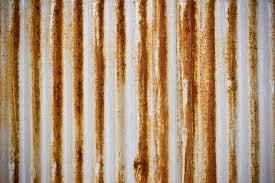rust: (181, 7, 216, 182), (137, 4, 148, 176), (156, 2, 170, 137), (31, 2, 41, 182), (53, 3, 63, 166), (225, 1, 239, 106), (11, 2, 20, 161), (95, 3, 104, 145), (73, 3, 84, 116), (115, 2, 126, 78), (247, 4, 259, 68)
